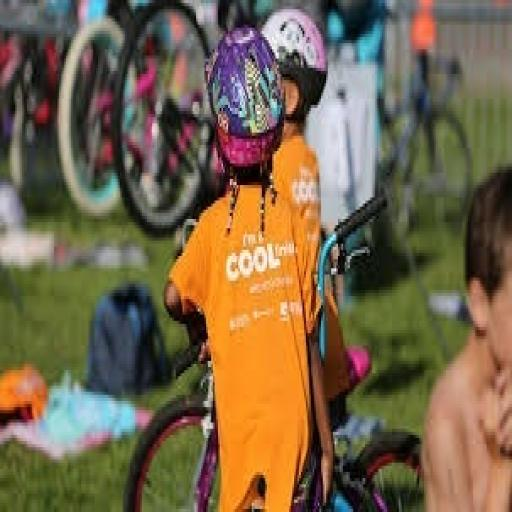cycling: (162, 22, 338, 509), (419, 163, 510, 509)
